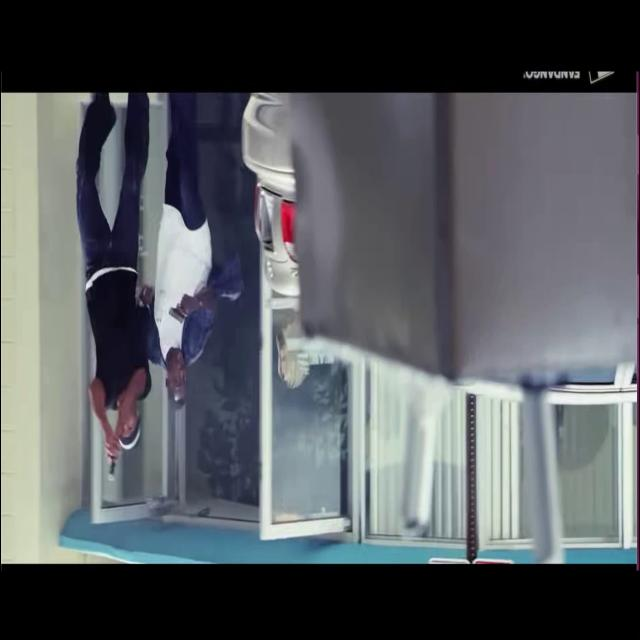weapons: (104, 419, 122, 494), (164, 286, 192, 330)
